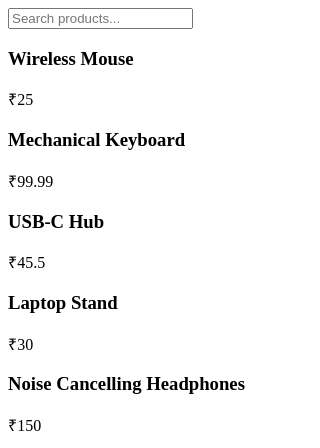
Test: Product Catalog E2E Tests › should filter products using search input
The width and height of the screenshot is (320, 448).
Type "Wireless Mouse" into the field with test id "search-input" at (101, 19), box [8,8,193,29]
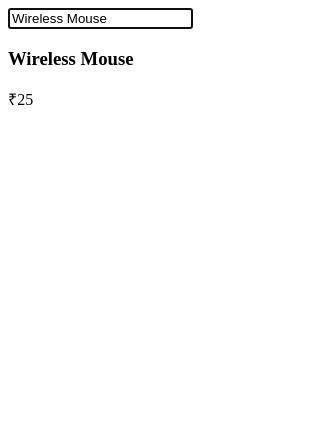
Expected: the heading "Wireless Mouse" is shown, [8,48,134,69]
Expected: the number of elements with test id "product-item" is 1, [8,48,134,109]
